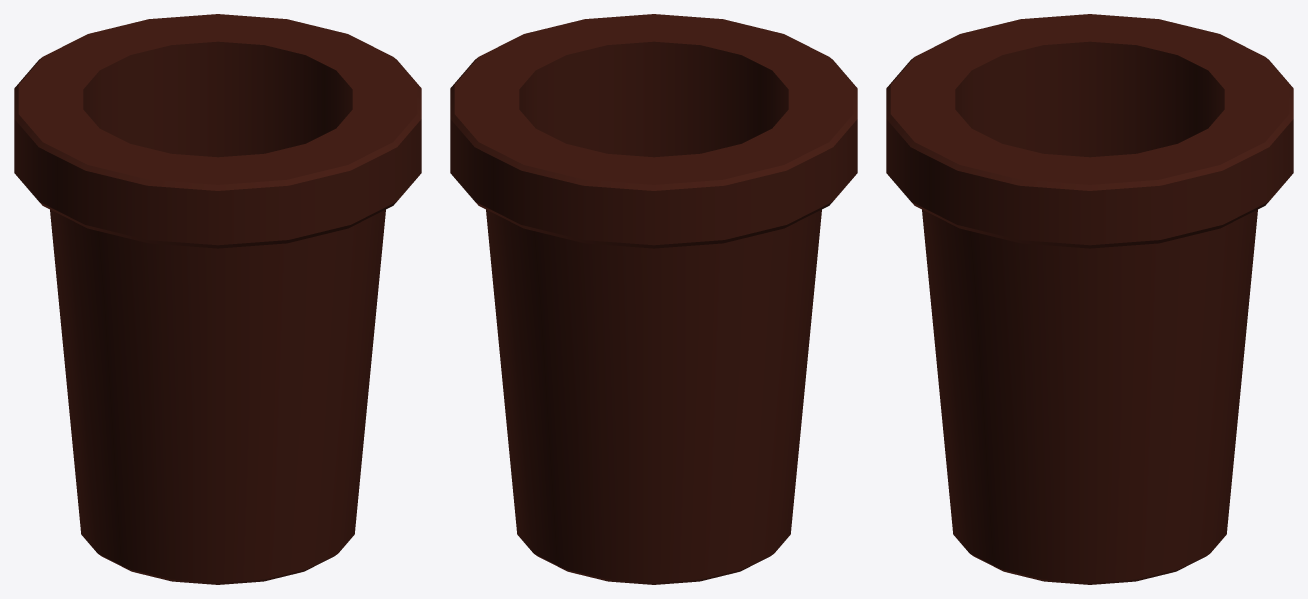
File: Cup-2.FBX
3 views of the same model, side by side, from view 1: azimuth 30°, elevation 25°; view 2: azimuth 150°, elevation 25°; view 3: azimuth 270°, elevation 25° (orthographic).
Visible parts, largest first — view 1: Cylinder011; view 2: Cylinder011; view 3: Cylinder011.
Part boxes in pixels (bbox=[...]): Cylinder011: bbox=[14, 14, 421, 584]; Cylinder011: bbox=[450, 14, 857, 584]; Cylinder011: bbox=[886, 14, 1293, 584].
Size of the model in its own units: 5.7 by 6.52 by 5.61.
